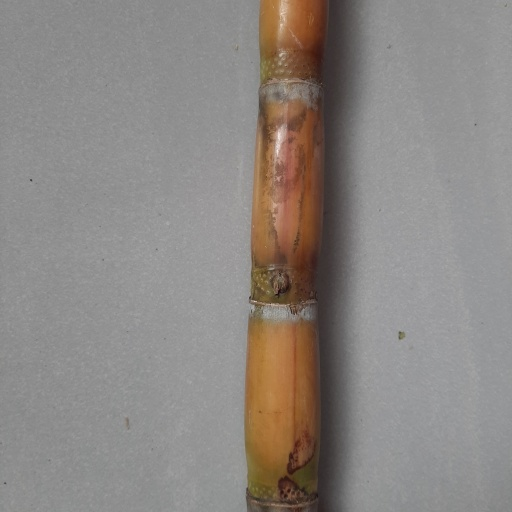Bud: (267, 270, 294, 297)
